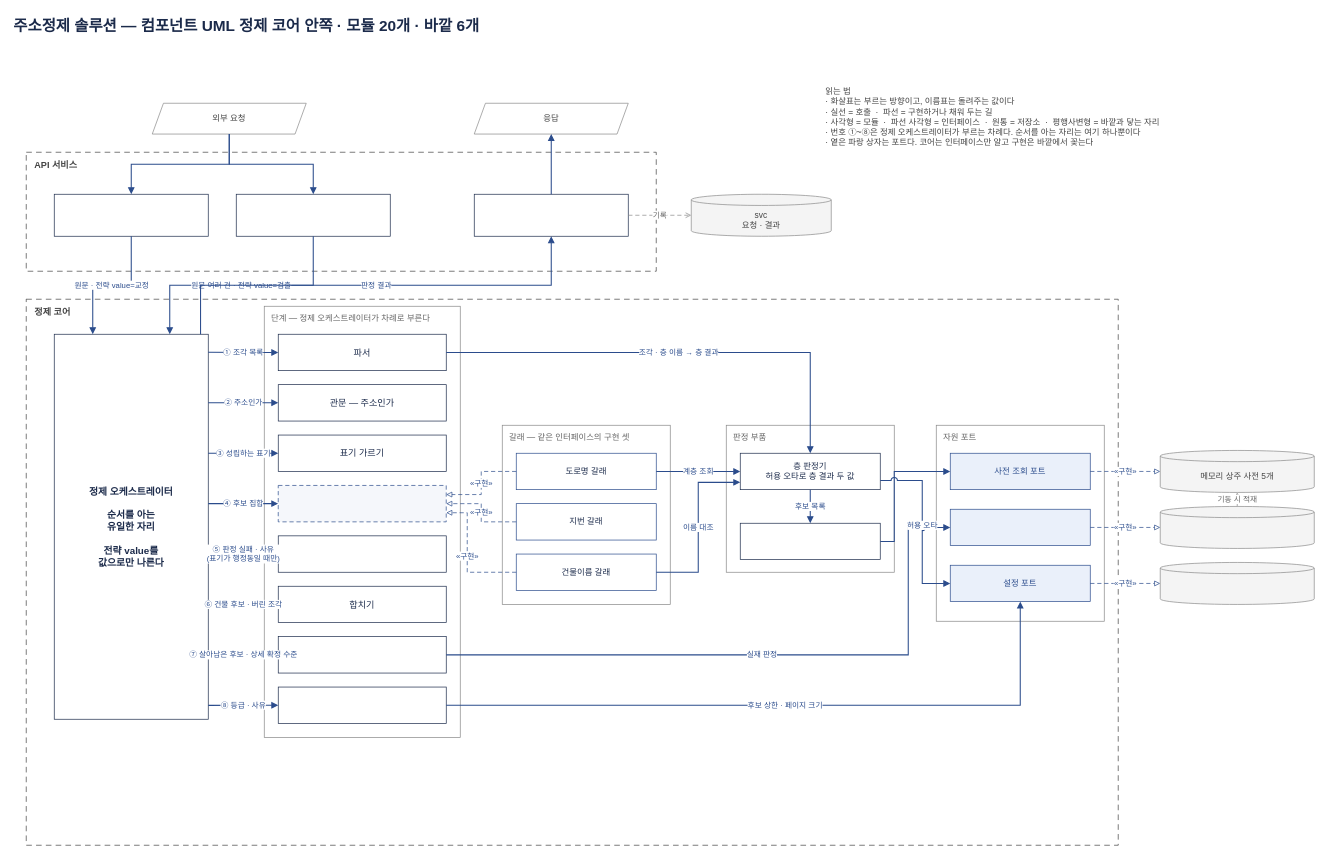
This 1327x858 diagram has some shape labels left out. Each missing label, with the centre of its shape:
"svc.config" belongs at point 1237,583.
"«인터페이스» 갈래" belongs at point 362,503.
"검출 진입점 TMS 내부 · 엑셀 배치" belongs at point 313,215.
"교정 진입점 외부사 팝업 단건" belongs at point 131,215.
"실재 확인" belongs at point 362,654.
"엔진 DB · ref" belongs at point 1237,527.
"응답 조립기 전략별 반환 모양" belongs at point 551,215.
"응답 판정기 — 등급 · 사유" belongs at point 362,704.
"참조 조회 포트" belongs at point 1020,527.
"행정동 판정 — 갈래 아님" belongs at point 362,553.
"후보 검색기 자모 거리로 닮은 이름" belongs at point 810,541.
